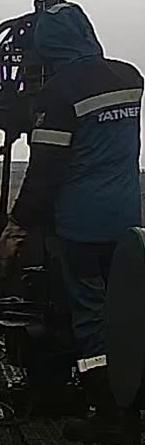gloves: (0, 211, 32, 278)
vest: (37, 57, 145, 244)
